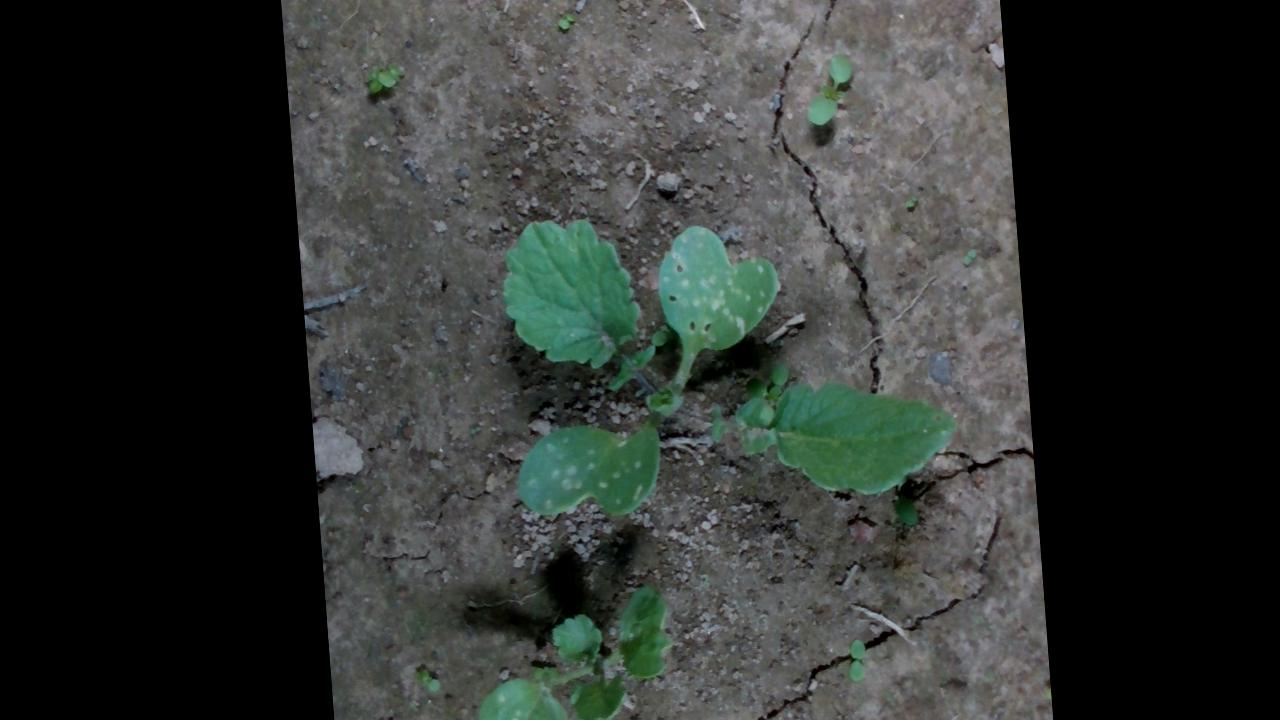weed: (800, 53, 855, 126), (836, 637, 859, 682), (406, 666, 431, 692), (556, 9, 578, 29), (956, 245, 977, 265)
